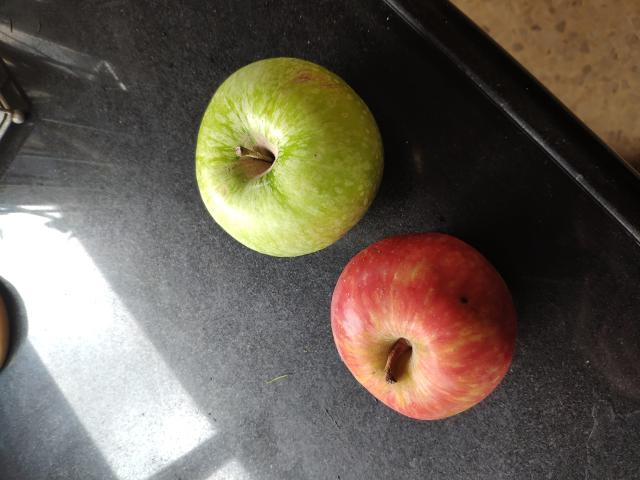apple: (322, 239, 525, 426)
